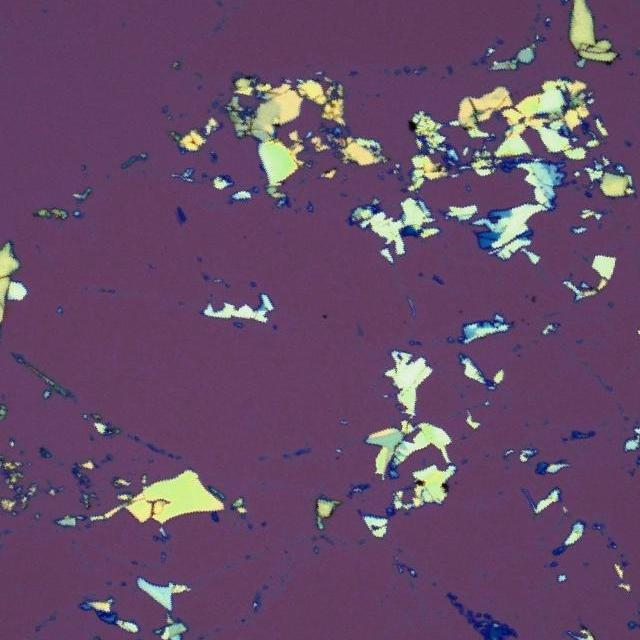monolayer-eWW4: (356, 322, 364, 336)
